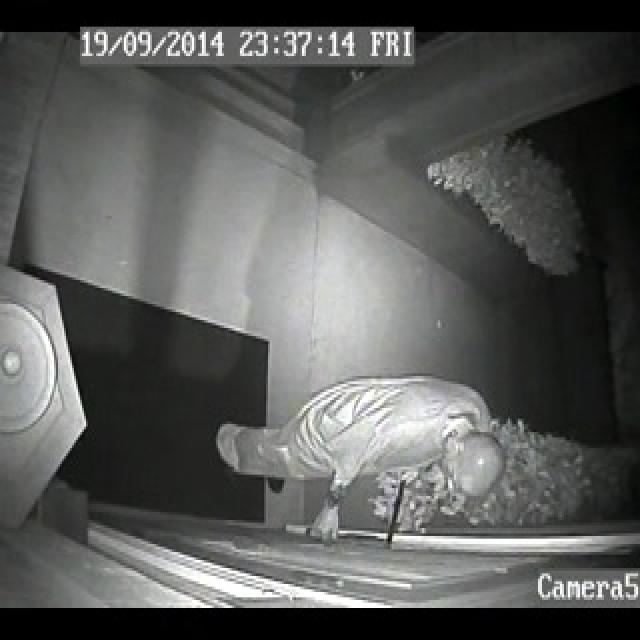thief: (208, 372, 515, 530)
